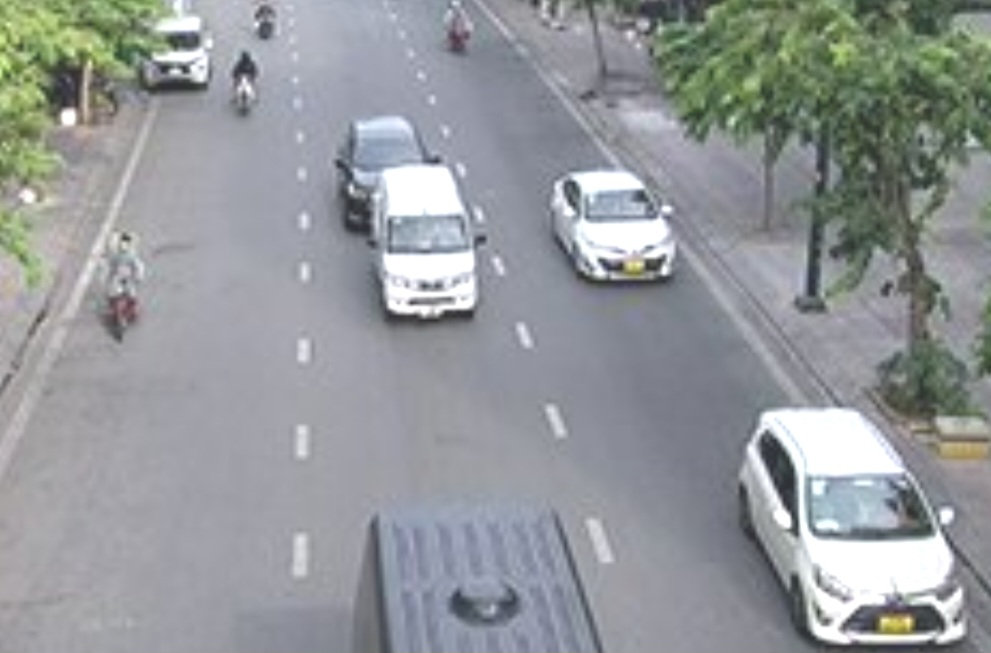car: (736, 403, 970, 646), (544, 167, 684, 287), (375, 169, 484, 322), (139, 18, 218, 98)
